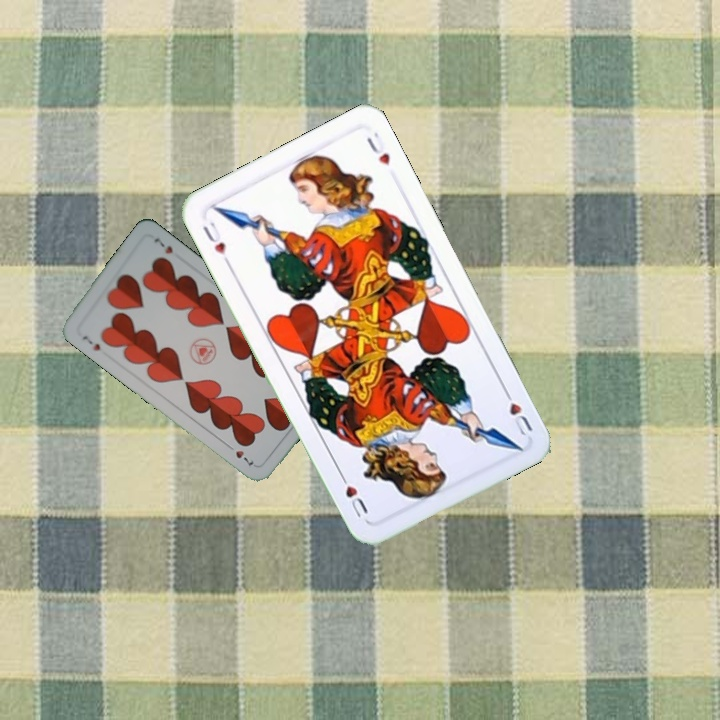H7: (78, 331, 103, 354)
HU: (499, 384, 535, 439), (199, 217, 233, 268)
